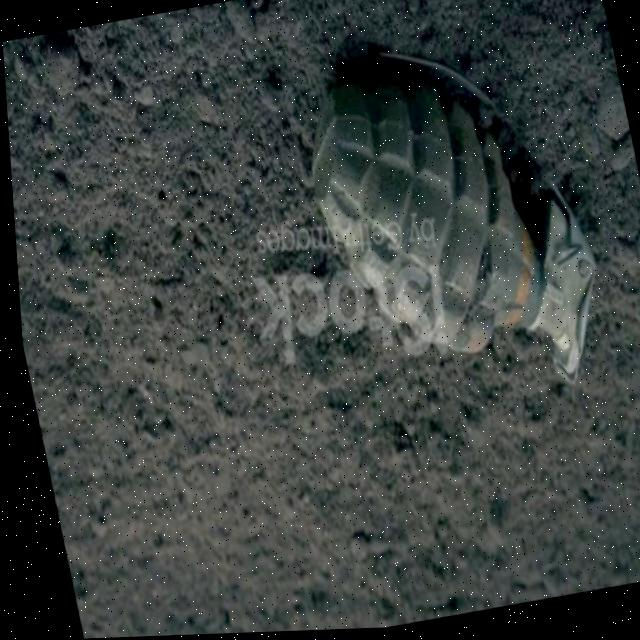grenade: (261, 4, 640, 429)
